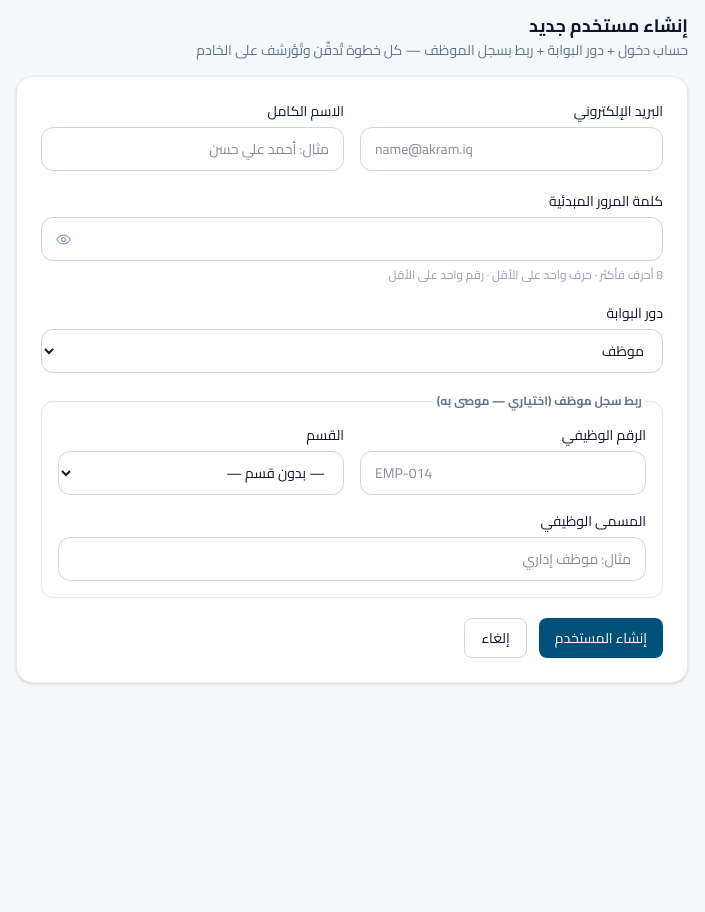
CreateUser — إنشاء مستخدم › يرفض مسؤول قسم بلا مناطق — بلا اتصال وبلا شفت وهمي
The width and height of the screenshot is (705, 912).
Select "مسؤول قسم" in the dropdown with test id "create-role". click: x=352, y=351
box: left=41, top=329, right=663, bottom=373
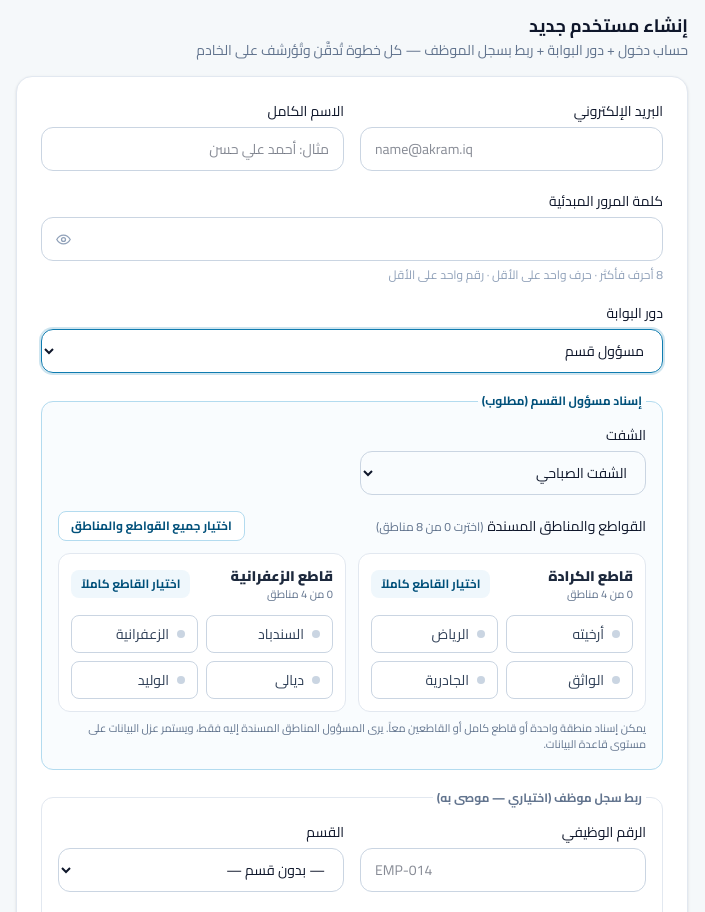
Type "new@akram.iq" into the field labelled "البريد الإلكتروني". click: x=512, y=149
box: left=360, top=127, right=663, bottom=171
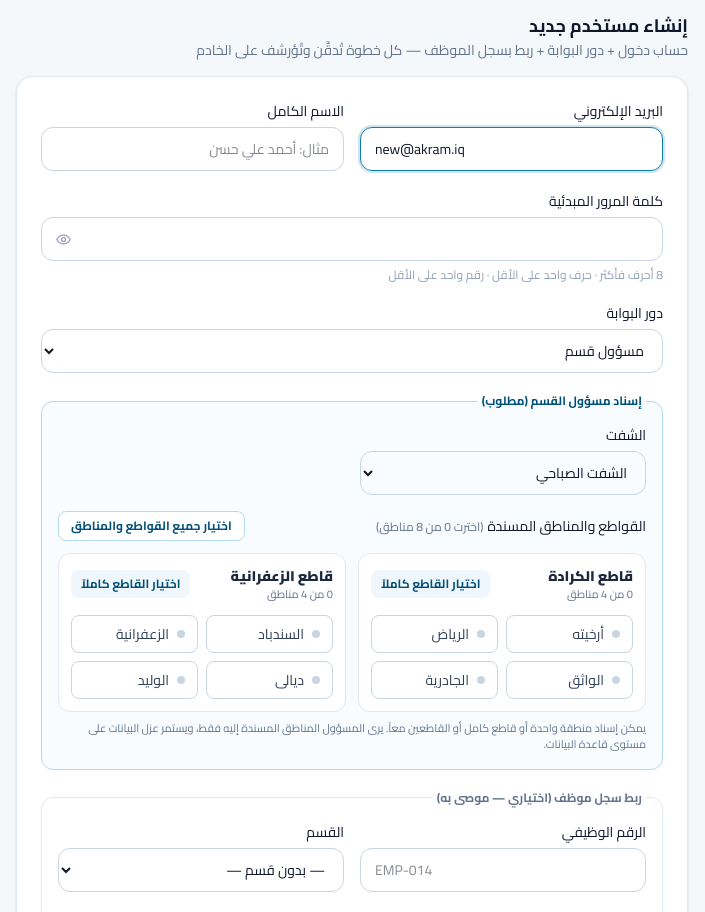
Type "علي حسن محمد" into the field labelled "الاسم الكامل". click: x=192, y=149
box: left=41, top=127, right=344, bottom=171
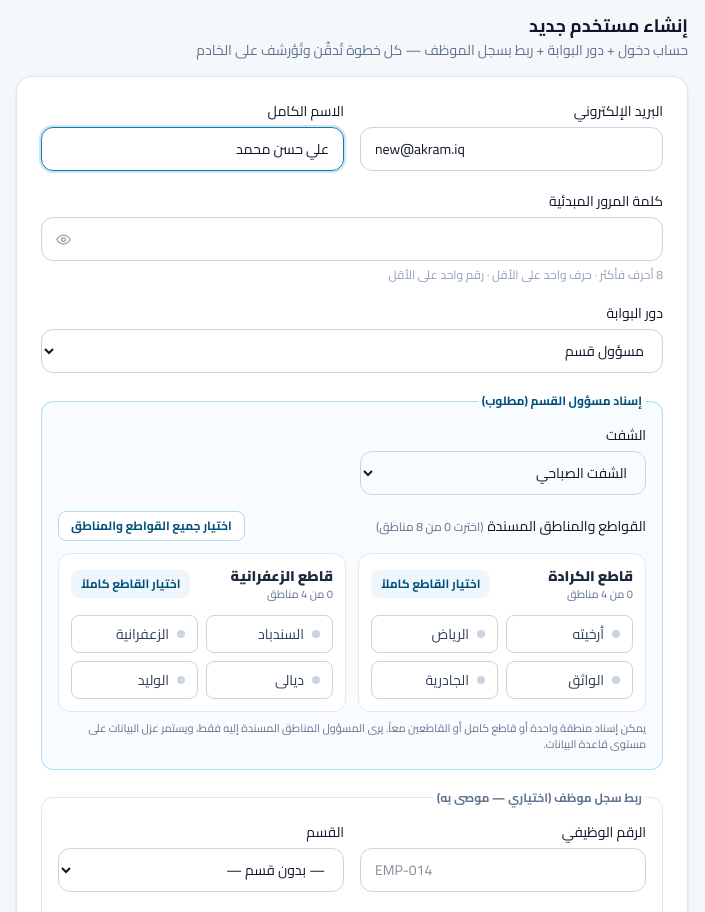
Type "Passw0rd1" into the password field labelled "كلمة المرور المبدئية". click: x=352, y=239
box: left=41, top=217, right=663, bottom=261
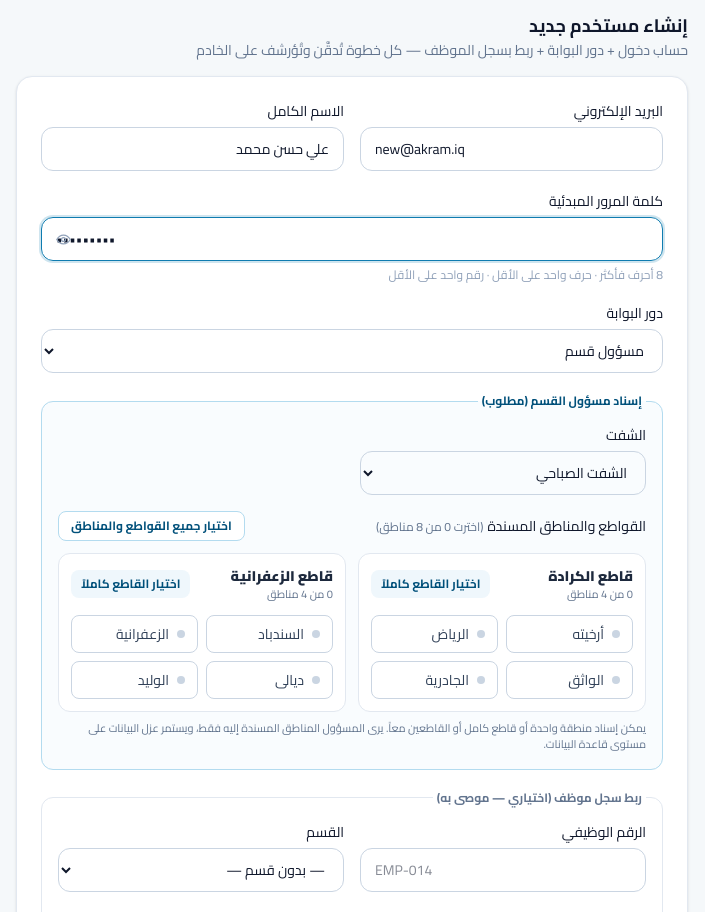
Type "EMP-099" into the field labelled "الرقم الوظيفي". click: x=503, y=870
box: left=360, top=848, right=646, bottom=892
(page scrolled)
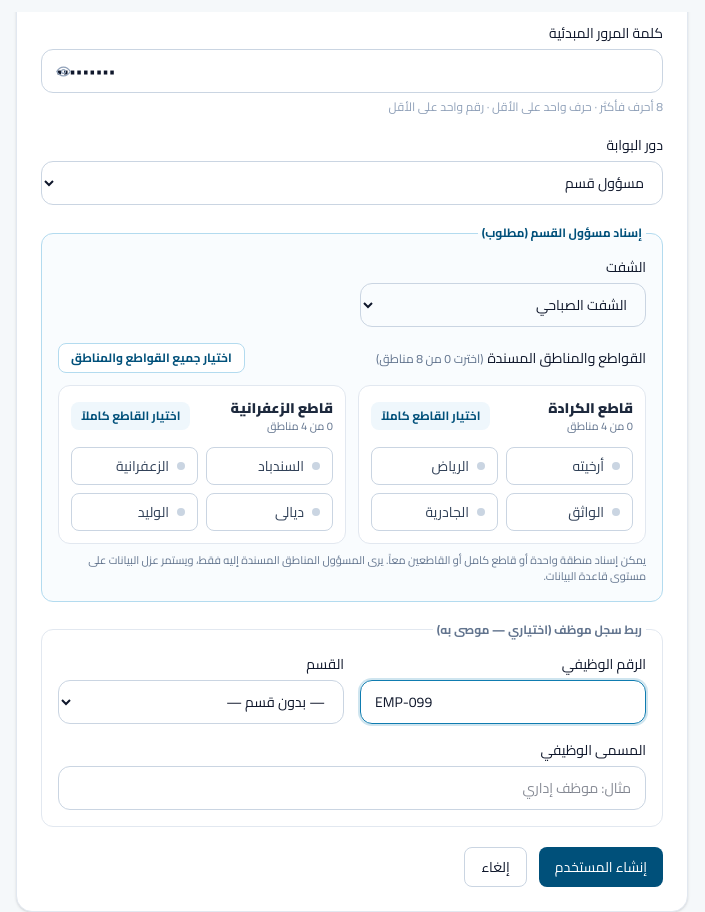
Click the button with test id "create-submit". click: x=601, y=866
box: left=539, top=846, right=663, bottom=886
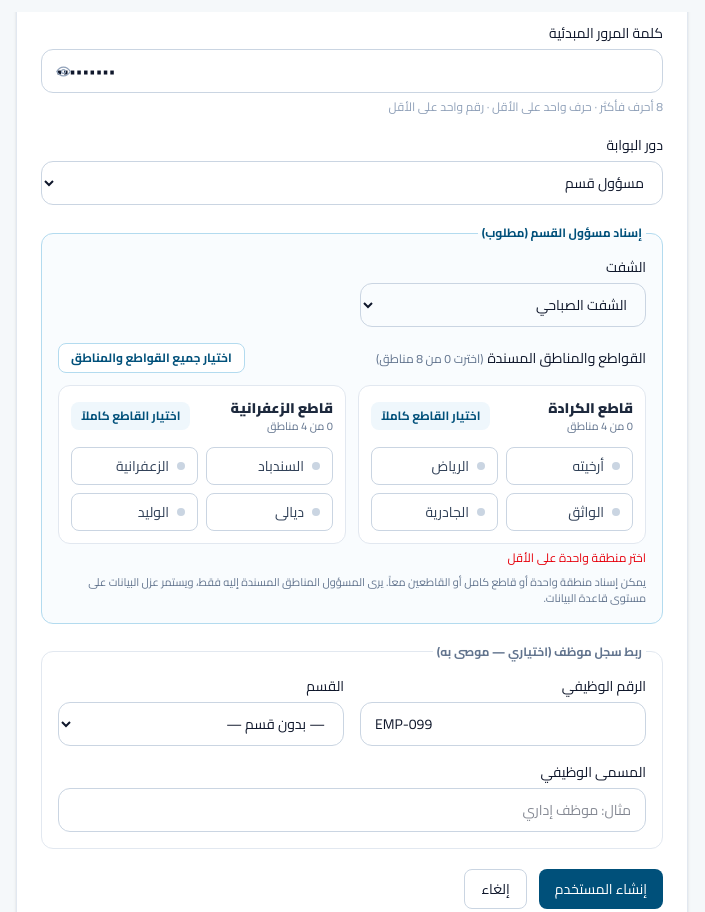
Result: the text "اختر منطقة واحدة على الأقل" is shown at left=507, top=546, right=646, bottom=568
